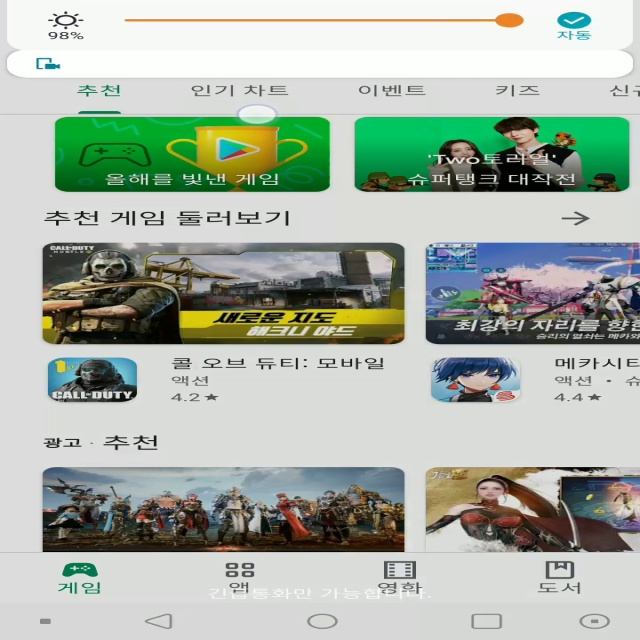Cursor: (235, 104, 280, 126)
